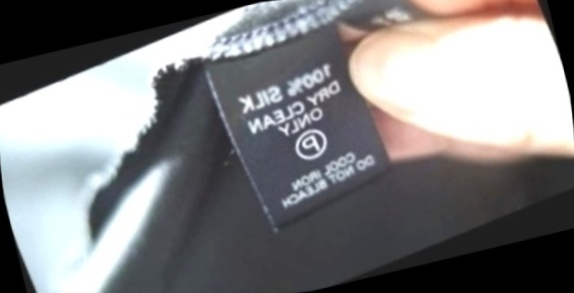dry_clean_any_solvent_except_trichloroethylene: (280, 115, 340, 174)
